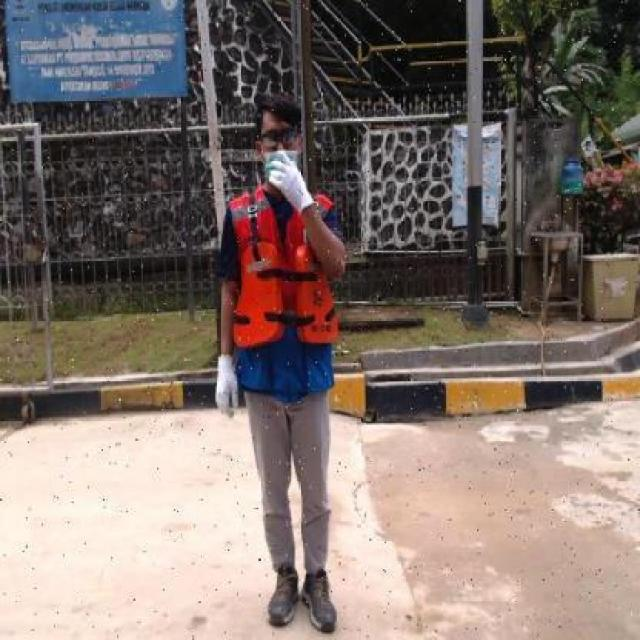Boots: (300, 565, 342, 638), (266, 562, 302, 629)
Gloves: (270, 152, 318, 214), (214, 352, 238, 422)
Mask: (263, 153, 299, 179)
Protective Glasses: (259, 126, 299, 149)
Vest: (230, 240, 342, 355)
